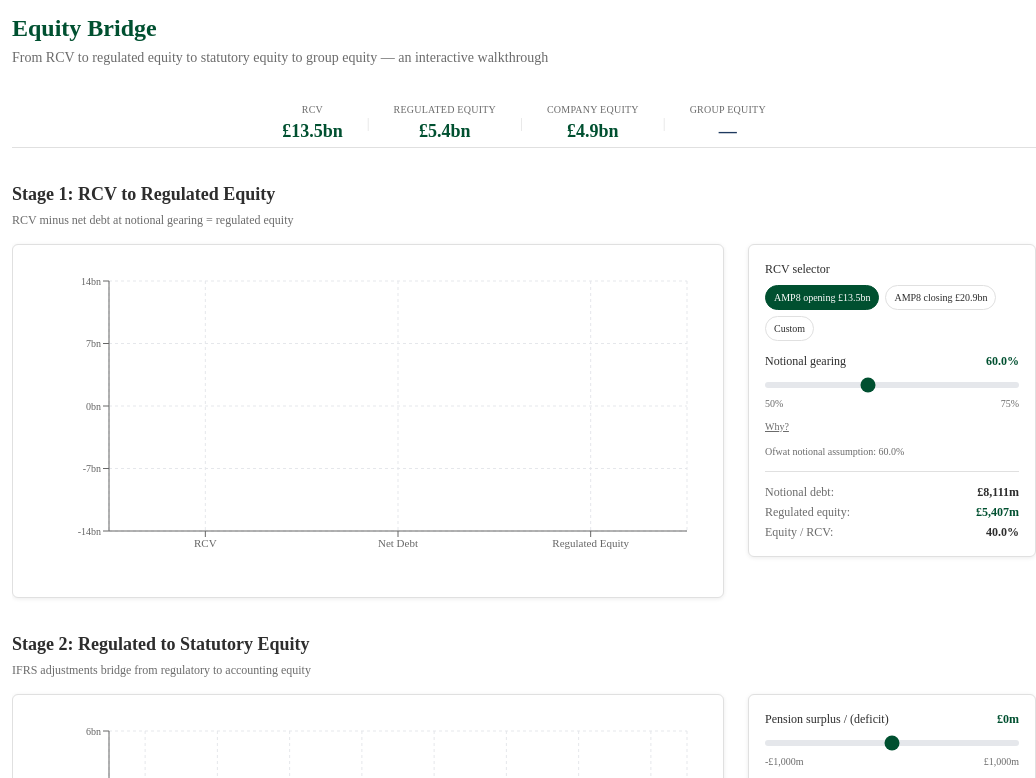
Test: EquityBridge › gearing slider at 70% produces correct regulated equity (RCV x 0.30)
This screenshot has width=1036, height=778.
Expected: the text "Notional gearing" is shown, [765,353,846,369]
Set the slider below "RCV selector" to "70" at point(963, 385), box [765,382,1019,388]
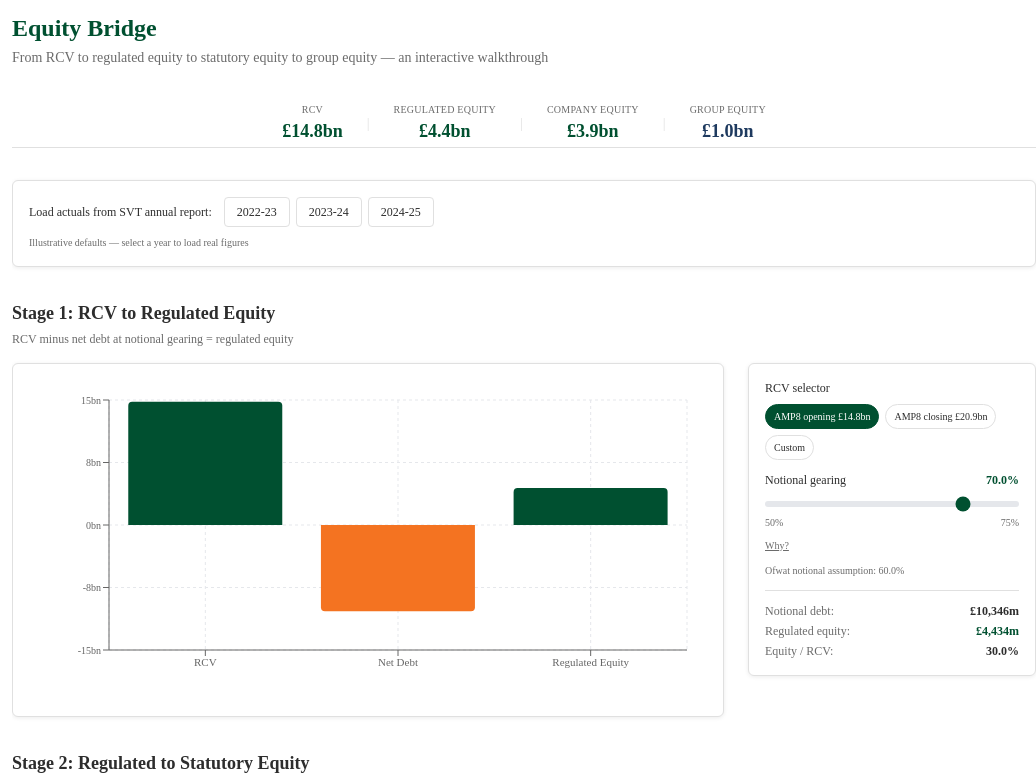
Expected: the text "£4,434m" is shown, [976,623,1019,639]
